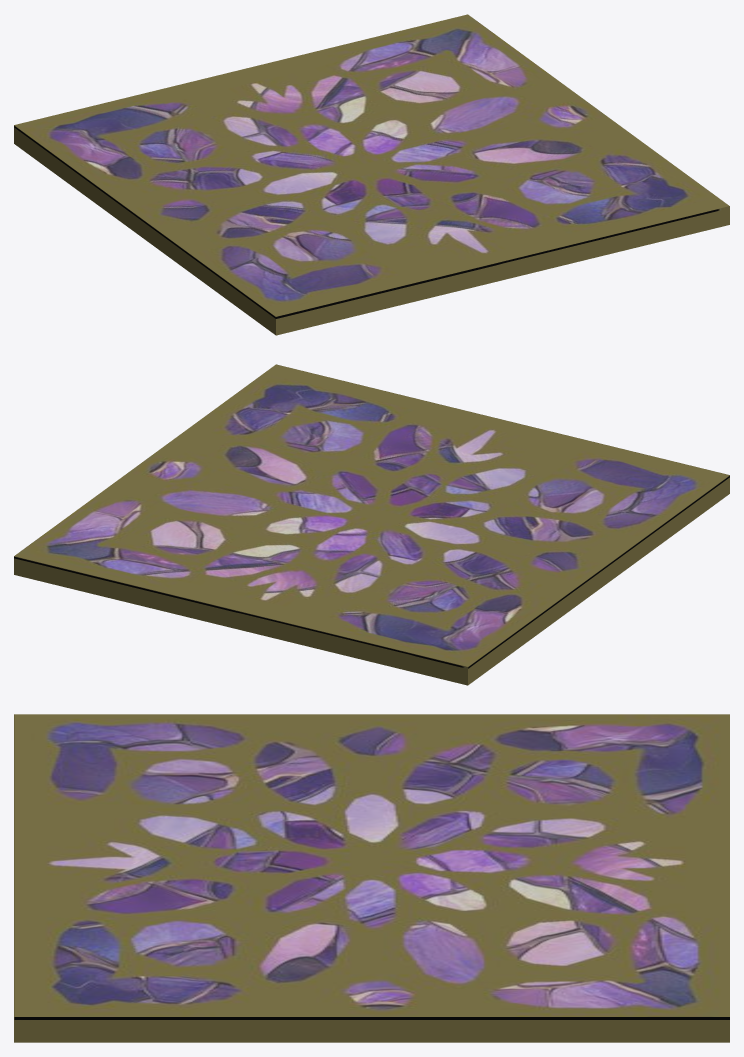
The model's file is tile1Compressed.glb.
The picture shows the model from 3 angles, top to bottom: view 1: azimuth 30°, elevation 25°; view 2: azimuth 150°, elevation 25°; view 3: azimuth 270°, elevation 25°; orthographic projection. The views are drawn at different scales.
Visible parts, largest first — view 1: tile1; view 2: tile1; view 3: tile1.
Part boxes in pixels (bbox=[...]): tile1: bbox=[14, 14, 729, 335]; tile1: bbox=[14, 364, 729, 685]; tile1: bbox=[14, 714, 729, 1042].
Bounding box in the file's own units: 1 × 0.16 × 1.
Materials: 2 (1 with a texture image).
